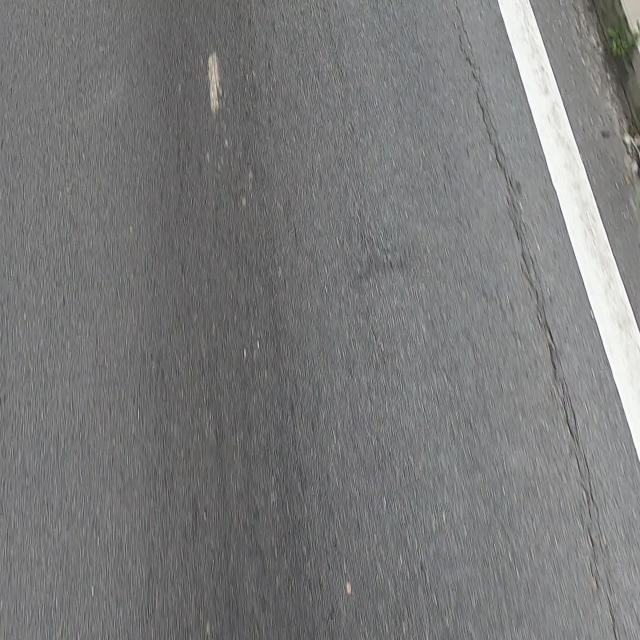Retak-Memanjang: (459, 40, 597, 594)
